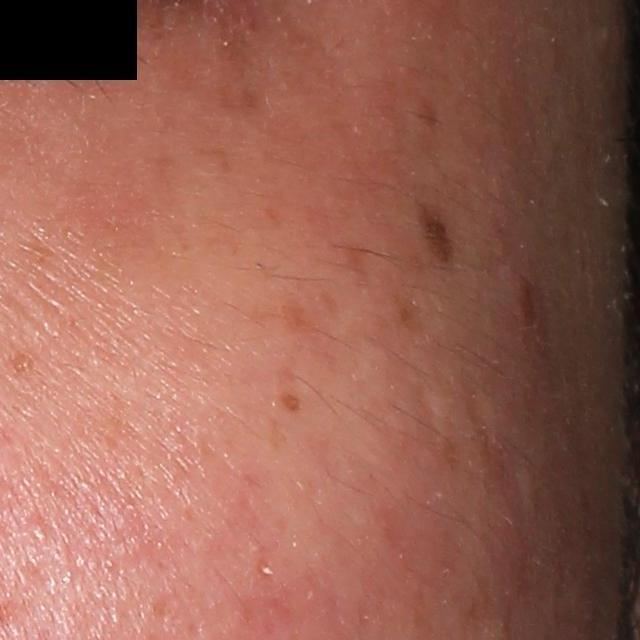melasma: (211, 24, 269, 113), (334, 234, 372, 287), (277, 368, 305, 415), (6, 346, 47, 377)
nevus: (414, 209, 454, 266)
